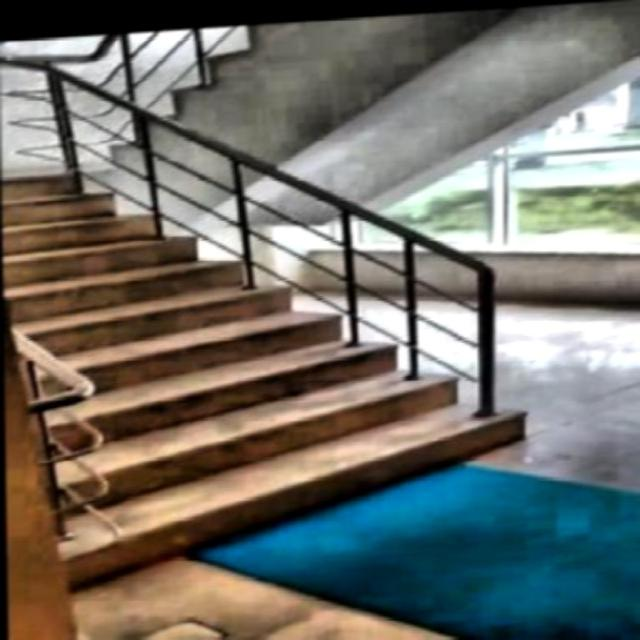stair: (3, 120, 529, 578)
